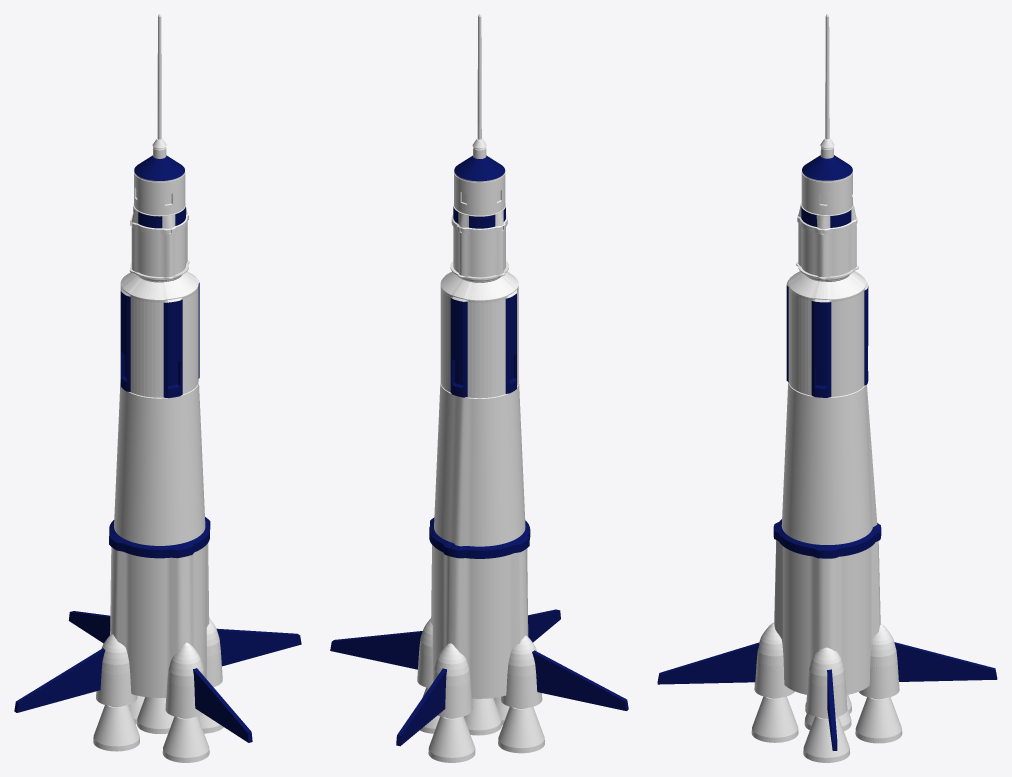
Rendered from tenlua.fbx.
The picture shows the model from 3 angles, left to right: view 1: azimuth 30°, elevation 25°; view 2: azimuth 150°, elevation 25°; view 3: azimuth 270°, elevation 25°; orthographic projection.
Parts seen in each view (by area): view 1: tenlua4:RoadKillOut, tenlua3:RoadKillOut, tenlua2:RoadKillOut, polySurface106, polySurface100, tenlua1:RoadKillOut, pCube3, pCube1, pCube4, polySurface99, polySurface105, pCube2; view 2: tenlua4:RoadKillOut, tenlua3:RoadKillOut, polySurface100, polySurface101, tenlua2:RoadKillOut, tenlua1:RoadKillOut, pCube3, pCube1, pCube2, polySurface105, polySurface99, pCube4; view 3: tenlua4:RoadKillOut, tenlua3:RoadKillOut, tenlua2:RoadKillOut, polySurface99, polySurface101, tenlua1:RoadKillOut, polySurface106, pCube2, pCube4.
Part boxes in pixels (left/top/right/bottom): tenlua4:RoadKillOut: left=109, top=380, right=210, bottom=697; tenlua3:RoadKillOut: left=120, top=271, right=199, bottom=398; tenlua2:RoadKillOut: left=129, top=203, right=189, bottom=282; polySurface106: left=162, top=642, right=209, bottom=762; polySurface100: left=93, top=634, right=139, bottom=751; tenlua1:RoadKillOut: left=134, top=14, right=185, bottom=215; pCube3: left=14, top=648, right=105, bottom=712; pCube1: left=216, top=628, right=301, bottom=666; pCube4: left=193, top=668, right=252, bottom=742; polySurface99: left=198, top=618, right=223, bottom=733; polySurface105: left=137, top=697, right=174, bottom=733; pCube2: left=68, top=611, right=110, bottom=643; tenlua4:RoadKillOut: left=429, top=381, right=530, bottom=698; tenlua3:RoadKillOut: left=440, top=271, right=518, bottom=398; polySurface100: left=498, top=635, right=544, bottom=753; polySurface101: left=428, top=643, right=475, bottom=762; tenlua2:RoadKillOut: left=450, top=203, right=508, bottom=282; tenlua1:RoadKillOut: left=454, top=14, right=505, bottom=215; pCube3: left=532, top=650, right=628, bottom=710; pCube1: left=330, top=631, right=422, bottom=669; pCube2: left=396, top=668, right=446, bottom=746; polySurface105: left=464, top=698, right=501, bottom=735; polySurface99: left=417, top=618, right=439, bottom=733; pCube4: left=528, top=609, right=560, bottom=642; tenlua4:RoadKillOut: left=773, top=382, right=881, bottom=694; tenlua3:RoadKillOut: left=786, top=271, right=868, bottom=397; tenlua2:RoadKillOut: left=796, top=202, right=858, bottom=281; polySurface99: left=803, top=647, right=849, bottom=762; polySurface101: left=855, top=623, right=902, bottom=743; tenlua1:RoadKillOut: left=801, top=14, right=852, bottom=214; polySurface106: left=751, top=622, right=798, bottom=742; pCube2: left=894, top=642, right=997, bottom=681; pCube4: left=657, top=642, right=759, bottom=684.
Bounding box in the file's own units: 229 × 542 × 233.
Materials: 6 (6 with a texture image).
